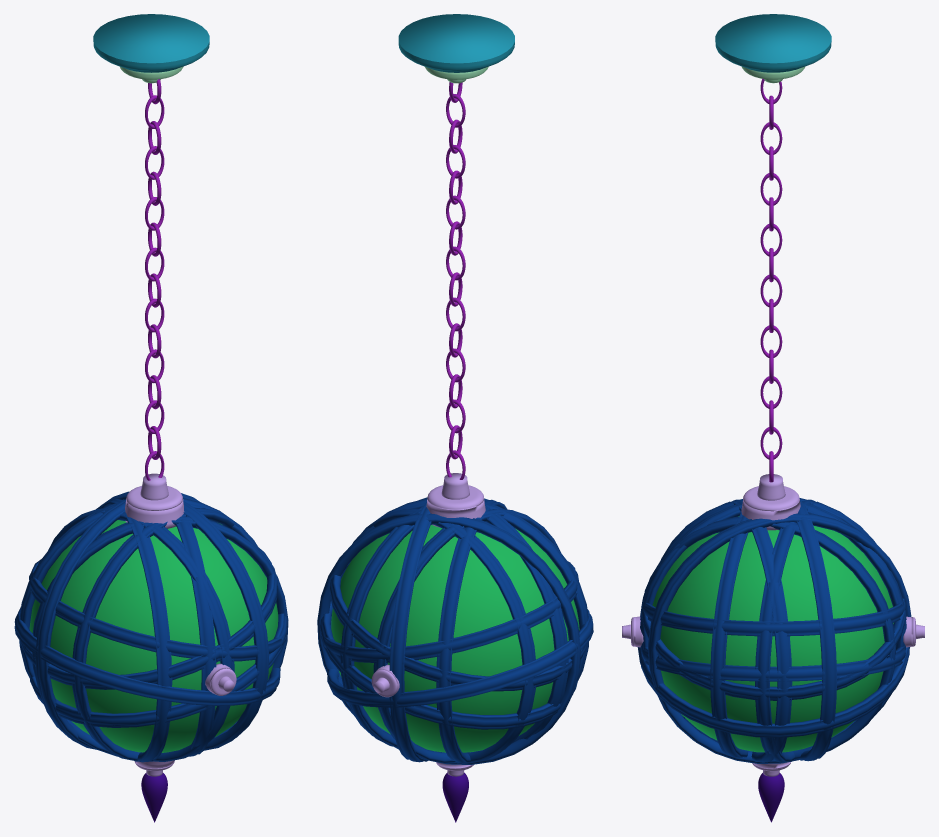
File: Lamp.obj
The picture shows the model from 3 angles, left to right: view 1: azimuth 30°, elevation 25°; view 2: azimuth 150°, elevation 25°; view 3: azimuth 270°, elevation 25°; orthographic projection.
Visible parts, largest first — view 1: Sphere004, Cylinder019, Torus015, Torus011, Torus005, Torus007, Torus009, Torus014, Torus010, Torus004, Torus016, Torus012 (+6 smaller); view 2: Sphere004, Torus007, Cylinder019, Torus015, Torus008, Torus011, Torus014, Torus010, Torus016, Torus012, Torus013, Torus009 (+5 smaller); view 3: Sphere004, Cylinder019, Torus011, Torus015, Torus007, Torus012, Torus013, Torus004, Torus014, Torus008, Torus016, Torus005 (+5 smaller).
Boxes of the visible parts, left/top/right/bottom form: Sphere004: left=29, top=520, right=278, bottom=752; Cylinder019: left=93, top=14, right=209, bottom=72; Torus015: left=14, top=607, right=280, bottom=705; Torus011: left=96, top=491, right=269, bottom=750; Torus005: left=72, top=508, right=245, bottom=762; Torus007: left=35, top=493, right=199, bottom=749; Torus009: left=102, top=499, right=172, bottom=762; Torus014: left=29, top=559, right=287, bottom=661; Torus010: left=48, top=508, right=234, bottom=761; Torus004: left=32, top=516, right=288, bottom=756; Torus016: left=30, top=613, right=287, bottom=727; Torus012: left=176, top=514, right=216, bottom=756; Sphere004: left=331, top=525, right=579, bottom=752; Torus007: left=317, top=513, right=580, bottom=764; Cylinder019: left=398, top=14, right=514, bottom=72; Torus015: left=327, top=609, right=593, bottom=707; Torus008: left=363, top=508, right=535, bottom=763; Torus011: left=389, top=501, right=431, bottom=762; Torus014: left=320, top=561, right=578, bottom=662; Torus010: left=436, top=499, right=506, bottom=763; Torus016: left=320, top=601, right=577, bottom=729; Torus012: left=340, top=498, right=488, bottom=747; Torus013: left=329, top=561, right=587, bottom=691; Torus009: left=373, top=509, right=560, bottom=763; Sphere004: left=652, top=516, right=893, bottom=752; Cylinder019: left=715, top=14, right=831, bottom=72; Torus011: left=648, top=513, right=911, bottom=763; Torus015: left=637, top=647, right=909, bottom=737; Torus007: left=796, top=498, right=836, bottom=761; Torus012: left=640, top=516, right=896, bottom=759; Torus013: left=641, top=600, right=905, bottom=636; Torus004: left=710, top=512, right=748, bottom=757; Torus014: left=641, top=584, right=905, bottom=700; Torus008: left=755, top=499, right=818, bottom=762; Torus016: left=642, top=646, right=905, bottom=681; Torus005: left=728, top=499, right=792, bottom=762.
Size of the model in its own units: 21.56 by 68.3 by 23.93.
